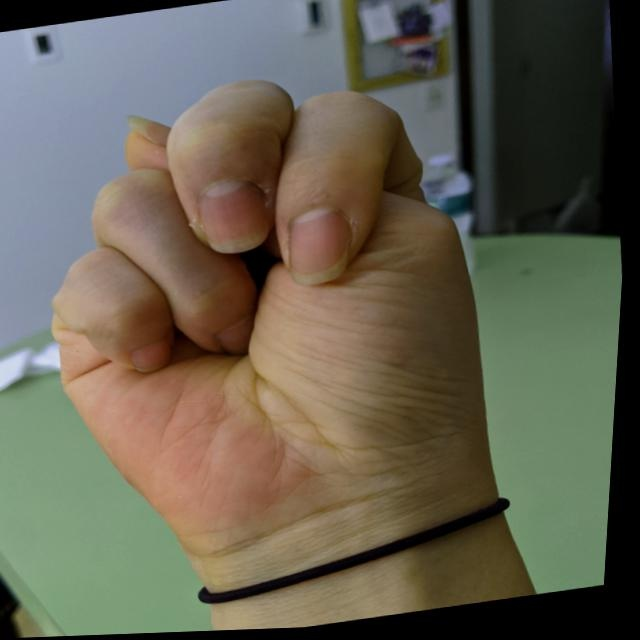N: (0, 37, 536, 594)
